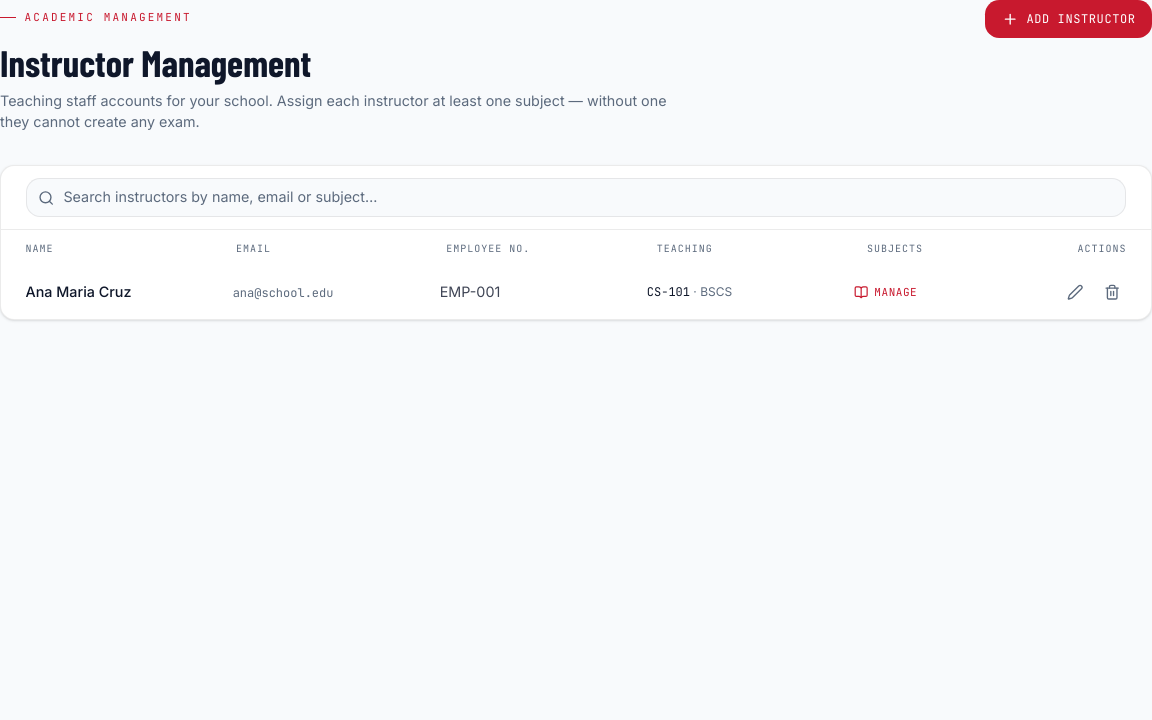
Test case: Instructors — editing the whole person › still asks for a password when creating
Check: the text "Ana Maria Cruz" is shown, box [26, 283, 132, 300]
Click the button "Add Instructor": (1069, 19) [986, 0, 1151, 38]
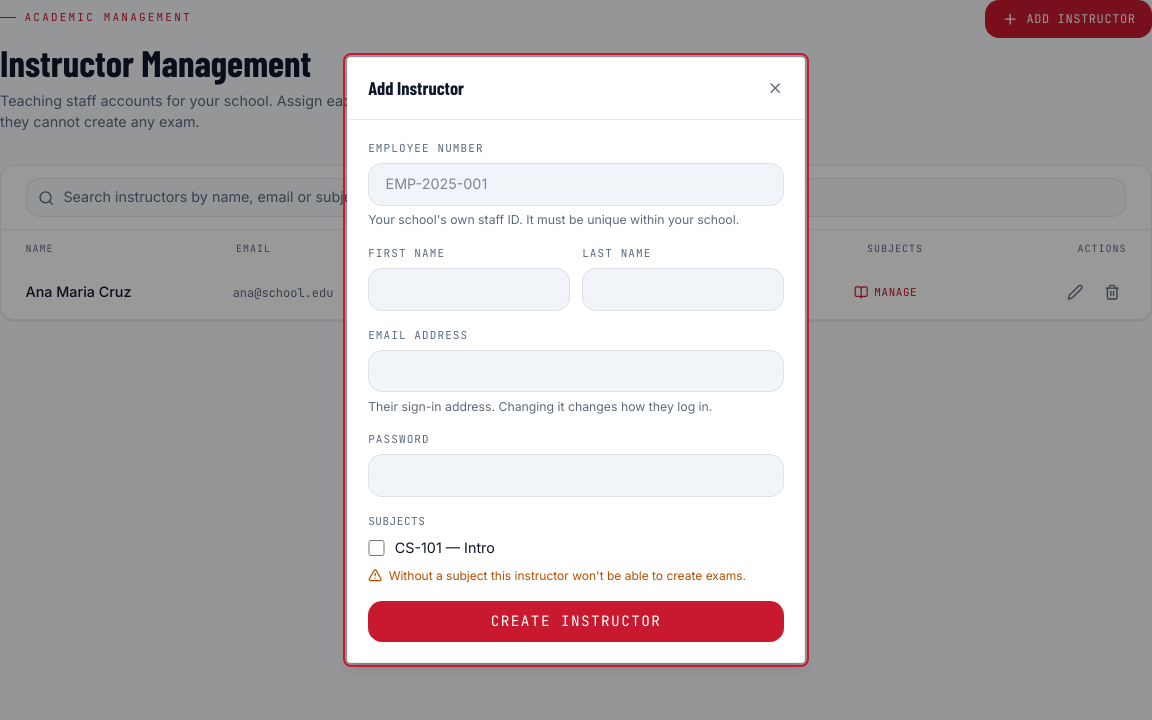
Check: the password field labelled "Password" is shown, box [368, 454, 784, 497]
